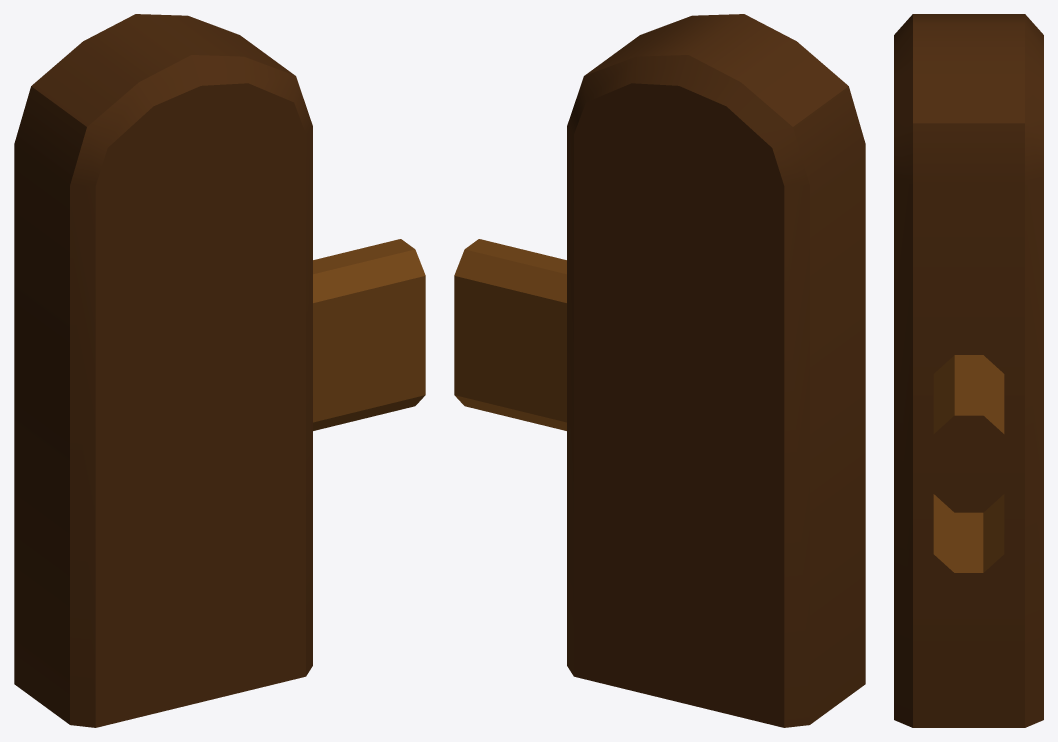
The model's file is Fence_1.fbx.
The picture shows the model from 3 angles, left to right: view 1: azimuth 30°, elevation 25°; view 2: azimuth 150°, elevation 25°; view 3: azimuth 270°, elevation 25°; orthographic projection.
Visible parts, largest first — view 1: Fence_1; view 2: Fence_1; view 3: Fence_1.
Part boxes in pixels (bbox=[...]): Fence_1: bbox=[14, 14, 425, 727]; Fence_1: bbox=[454, 14, 865, 727]; Fence_1: bbox=[894, 14, 1043, 727].
Size of the model in its own units: 74.82 by 125 by 26.44.
